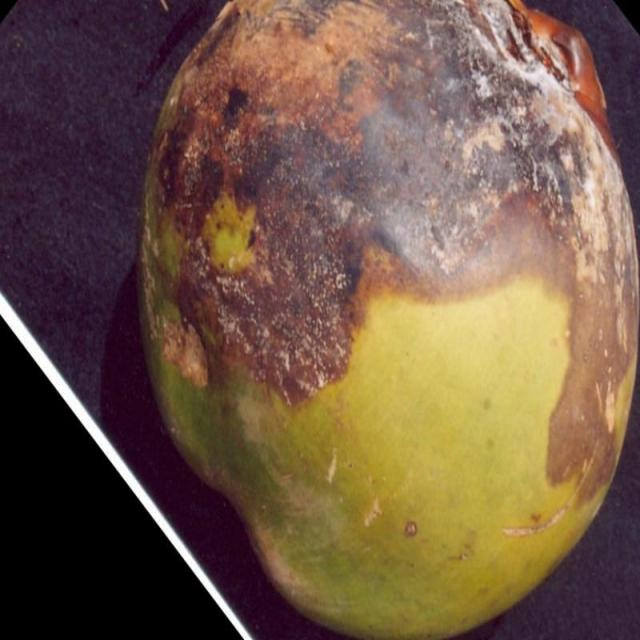damaged: (133, 0, 639, 639)
